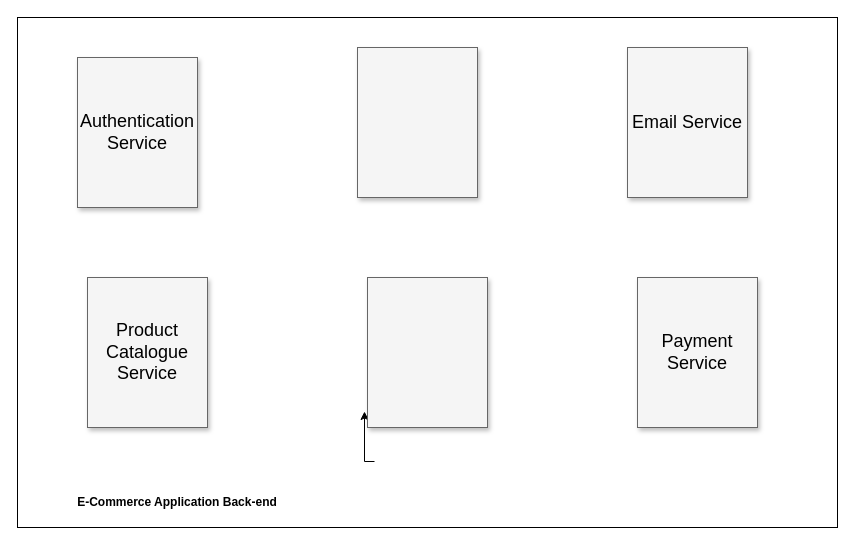
Image size: 855x545. Some labels were removed from this diagram. The centre of each missing label's shape, as x and y in pixels:
Discovery Service: pixel 418 123
Order Management Service: pixel 428 353
